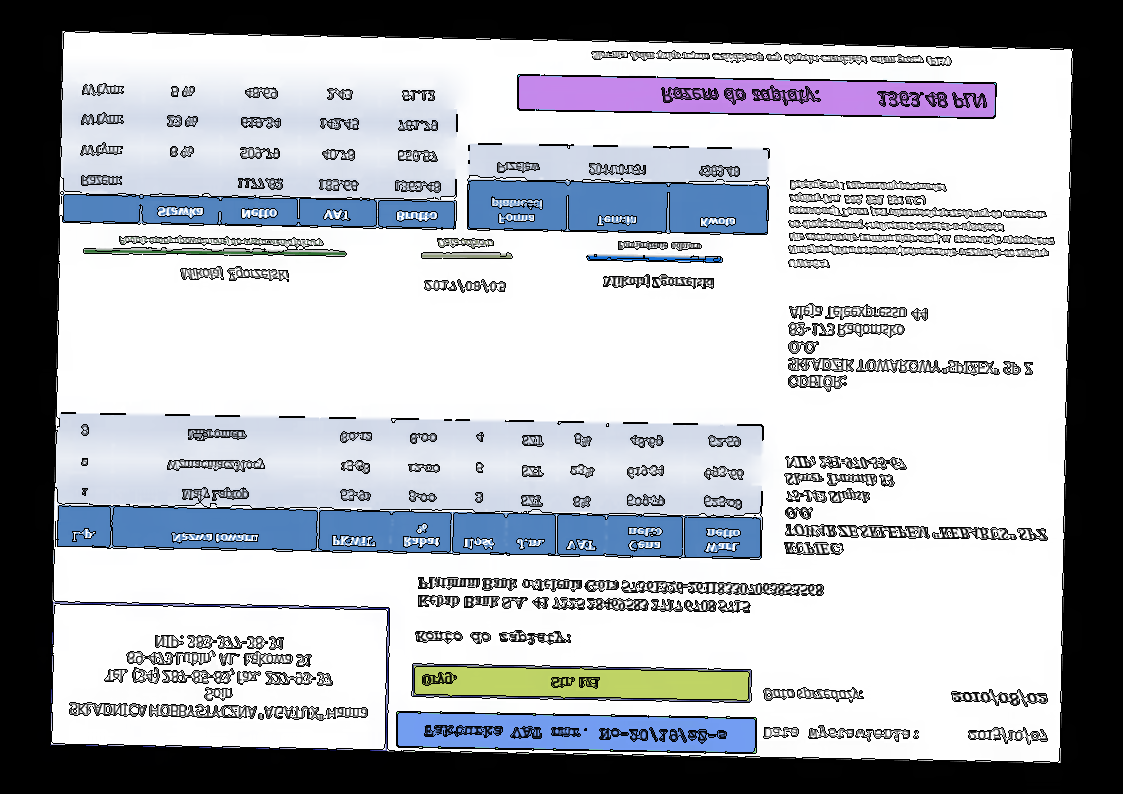Table: (55, 411, 765, 560), (60, 71, 460, 230), (465, 141, 771, 237)
TextBox: (781, 451, 1056, 563), (67, 628, 372, 724), (786, 177, 1056, 274), (785, 299, 1037, 398), (414, 574, 826, 618), (658, 82, 989, 113), (589, 47, 954, 70), (421, 721, 730, 746), (419, 669, 602, 693), (412, 627, 575, 649), (116, 234, 326, 251), (761, 722, 920, 744), (599, 272, 716, 293), (949, 686, 1049, 709), (179, 264, 293, 284), (761, 684, 865, 705), (421, 275, 507, 297), (965, 725, 1049, 747), (614, 239, 702, 254), (435, 235, 496, 251)
